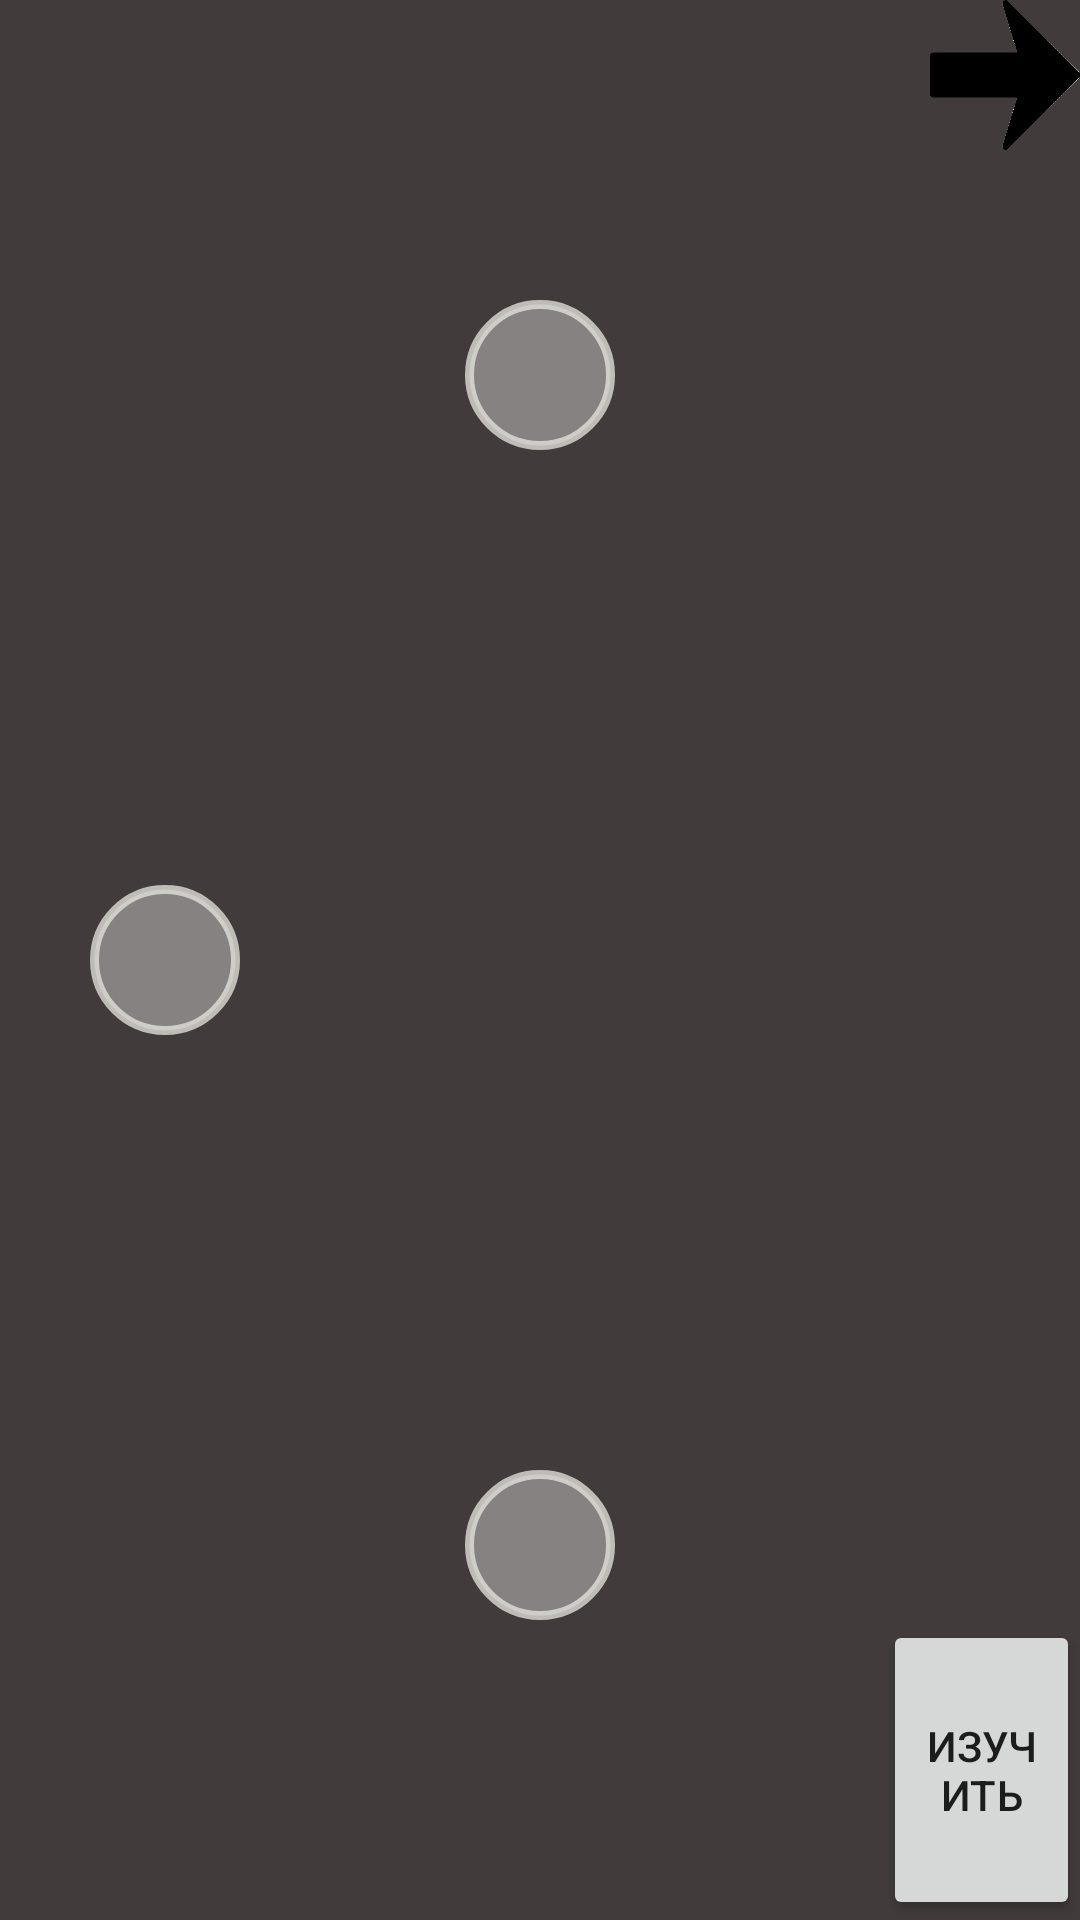

Icons on this 1080w x 1920h Android screen, each with its box as (x1, y1, x2, y2):
arrow go: (930, 0, 1080, 150)
